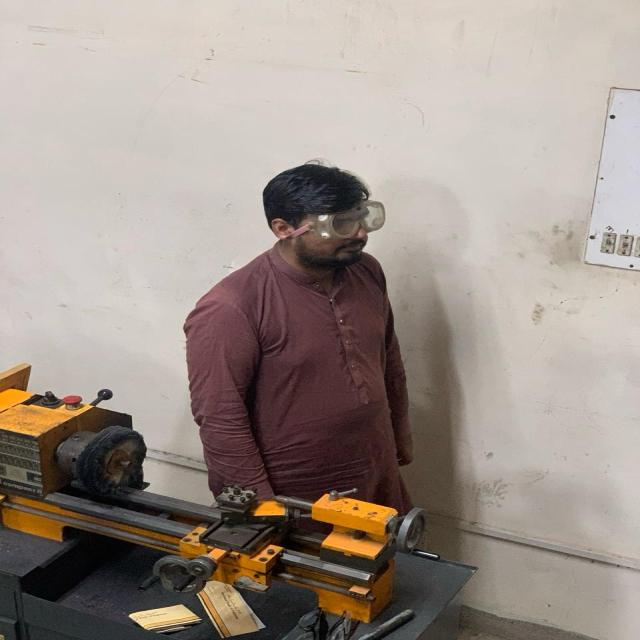googles: (310, 199, 386, 240)
